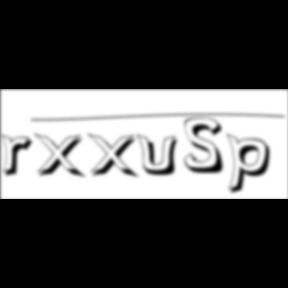S: (184, 117, 230, 176)
p: (227, 132, 277, 198)
r: (1, 134, 39, 180)
u: (137, 132, 185, 178)
x: (35, 132, 90, 181), (88, 132, 142, 181)
